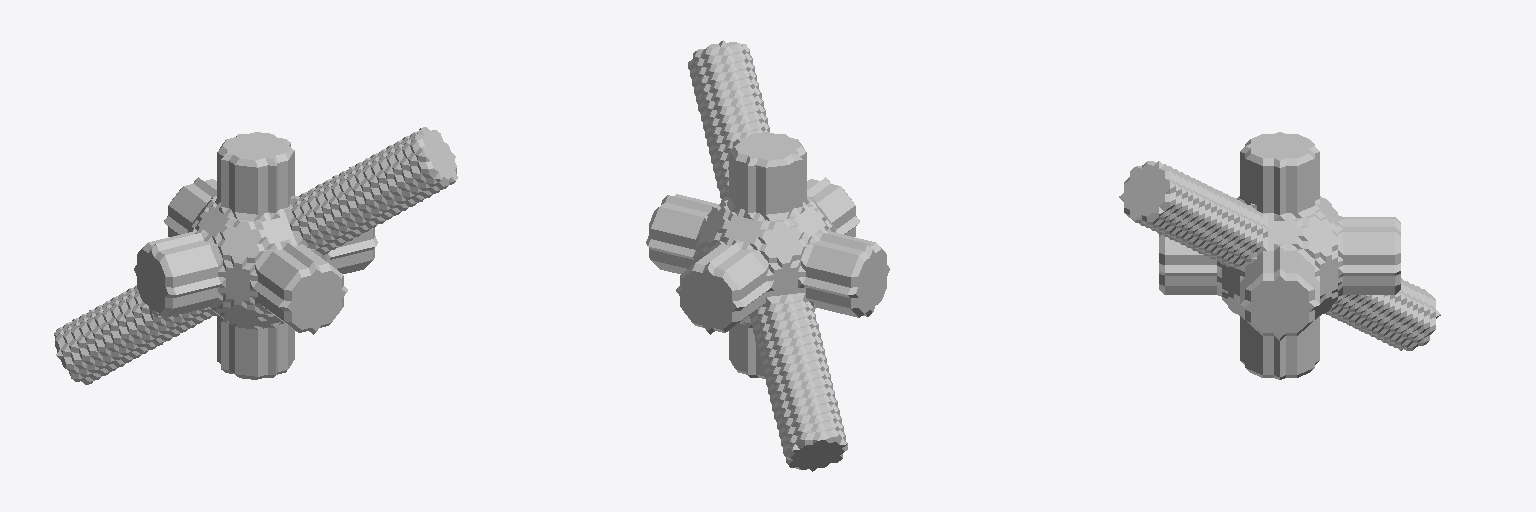
The model's file is test_dicom_reconstruction.obj.
The picture shows the model from 3 angles: view 1: azimuth 30°, elevation 25°; view 2: azimuth 150°, elevation 25°; view 3: azimuth 270°, elevation 25°; orthographic projection.
Visible parts, largest first — view 1: c_1_2500_1; view 2: c_1_2500_1; view 3: c_1_2500_1.
Part boxes in pixels (bbox=[...]): c_1_2500_1: bbox=[54, 127, 457, 384]; c_1_2500_1: bbox=[646, 40, 889, 471]; c_1_2500_1: bbox=[1119, 132, 1440, 379].
Bounding box in the file's own units: 56 × 56 × 56.